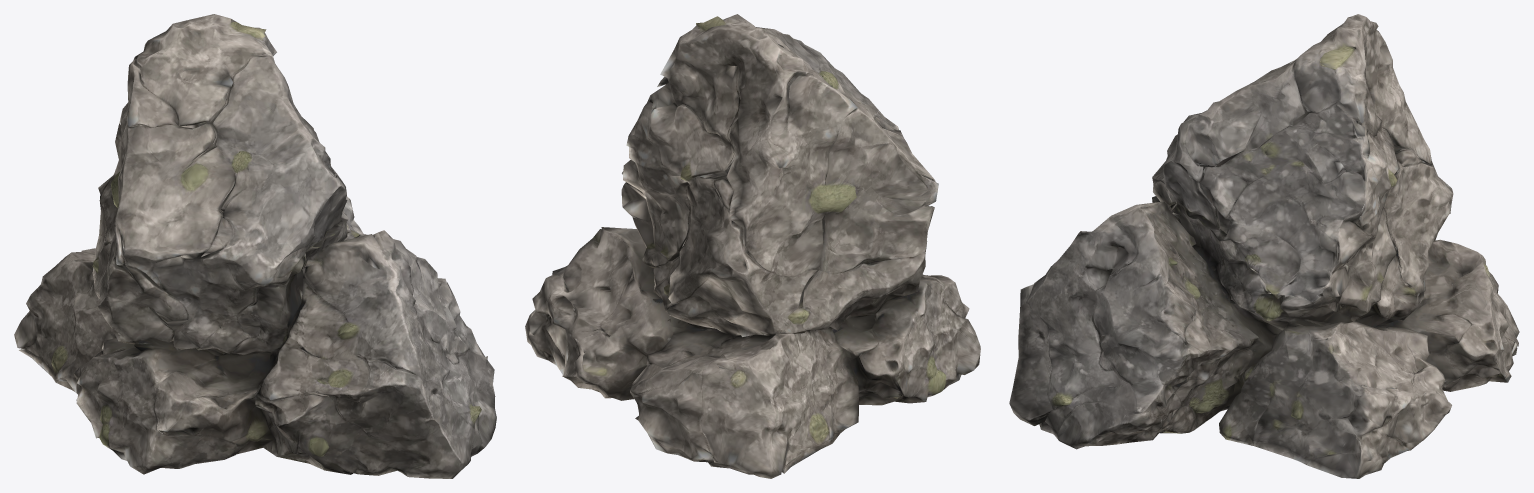
The model's file is boulder_f.glb.
3 views of the same model, side by side, from view 1: azimuth 30°, elevation 25°; view 2: azimuth 150°, elevation 25°; view 3: azimuth 270°, elevation 25° (orthographic). The views are drawn at different scales.
Visible parts, largest first — view 1: boulder_f; view 2: boulder_f; view 3: boulder_f.
Boxes of the visible parts, x1,y1,x2,y2 form: boulder_f: (14, 14, 496, 478); boulder_f: (525, 14, 980, 478); boulder_f: (1009, 14, 1519, 478).
Size of the model in its own units: 3.23 by 3.08 by 4.
Materials: 1 (1 with a texture image).
